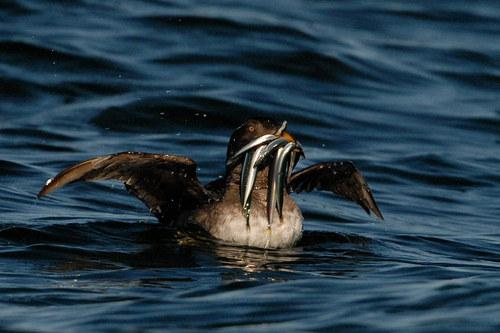008.Rhinoceros_Auklet: (38, 120, 385, 256)
